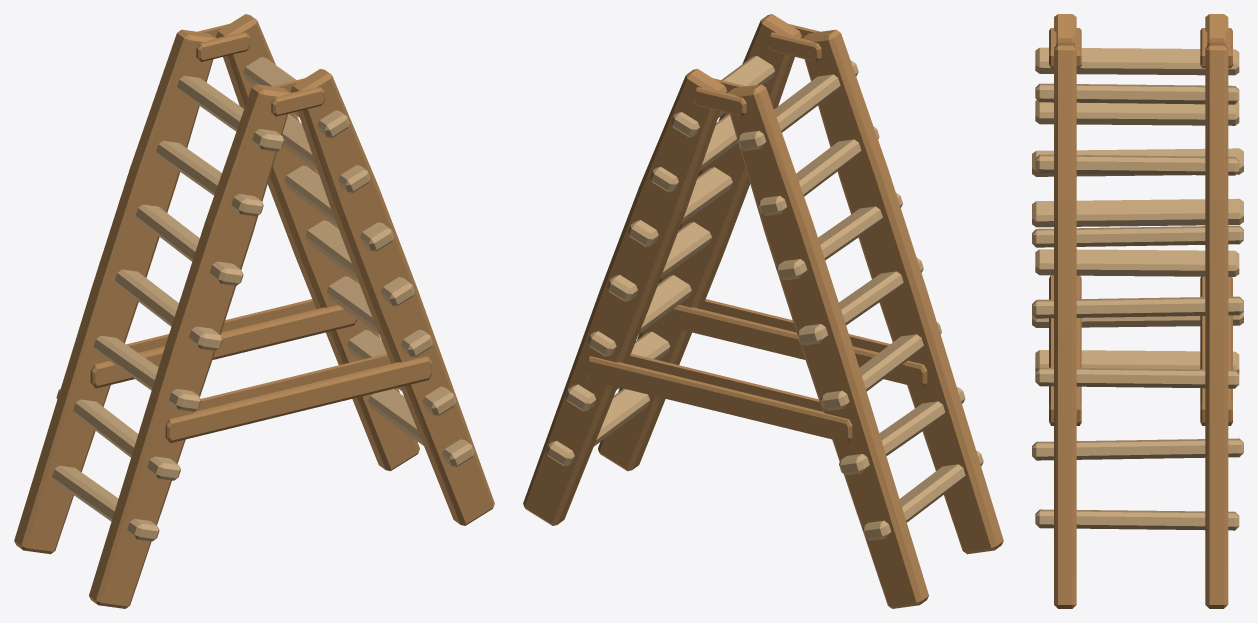
File: laddertriangle_a.gltf
3 views of the same model, side by side, from view 1: azimuth 30°, elevation 25°; view 2: azimuth 150°, elevation 25°; view 3: azimuth 270°, elevation 25° (orthographic).
Parts seen in each view (by area): view 1: laddertriangle_a001; view 2: laddertriangle_a001; view 3: laddertriangle_a001.
Boxes of the visible parts, x1=… form: laddertriangle_a001: x1=14, y1=14, x2=494, y2=608; laddertriangle_a001: x1=523, y1=14, x2=1003, y2=608; laddertriangle_a001: x1=1032, y1=14, x2=1243, y2=608.
Size of the model in its own units: 1.64 by 1.91 by 0.7437.
Materials: 1 (1 with a texture image).
